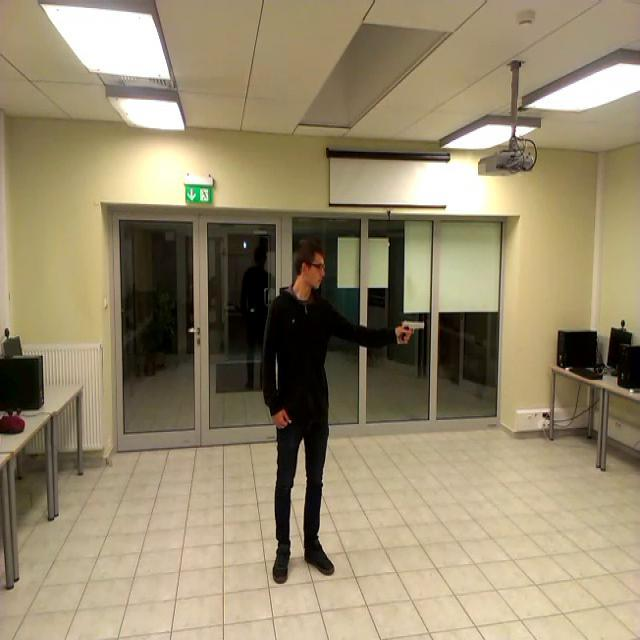Gun: (400, 320, 426, 340)
